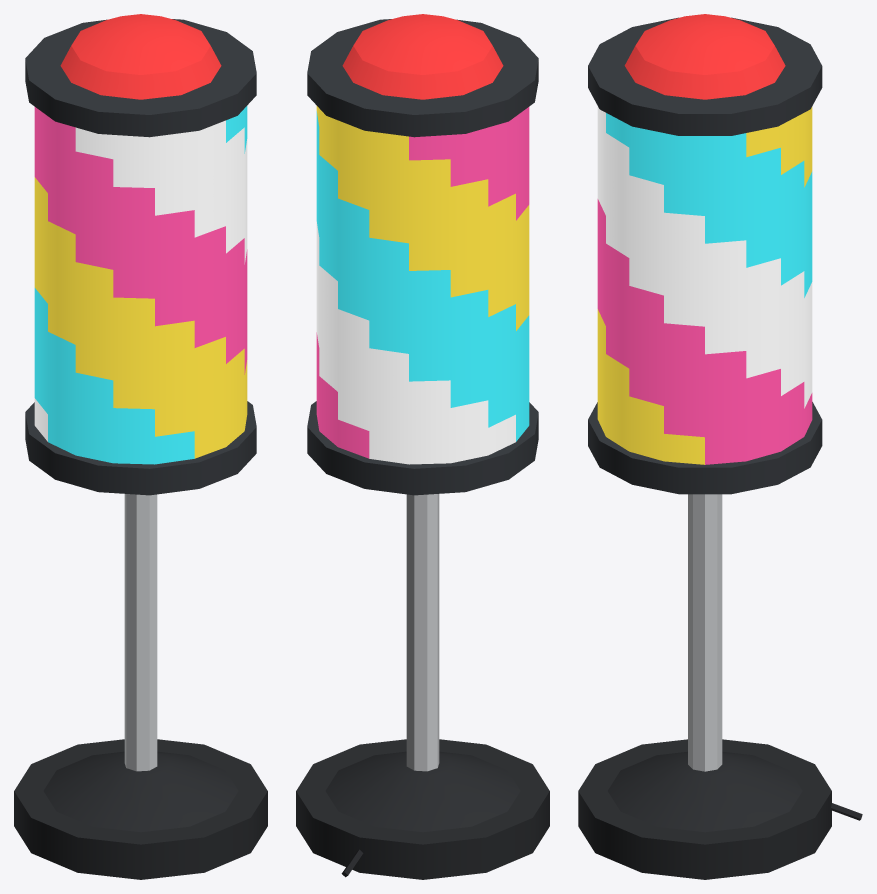
The model's file is SC_Shop_Spinning_Sign.gltf.
3 renders of one model, left to right at view 1: azimuth 30°, elevation 25°; view 2: azimuth 150°, elevation 25°; view 3: azimuth 270°, elevation 25°, orthographic.
Parts seen in each view (by area): view 1: SC_Shop_Spinning_Sign; view 2: SC_Shop_Spinning_Sign; view 3: SC_Shop_Spinning_Sign.
Boxes of the visible parts, x1,y1,x2,y2 form: SC_Shop_Spinning_Sign: (14,14,267,879); SC_Shop_Spinning_Sign: (296,14,549,879); SC_Shop_Spinning_Sign: (578,14,862,879).
Size of the model in its own units: 0.52 by 1.81 by 0.583.
Materials: 2 (2 with a texture image).
